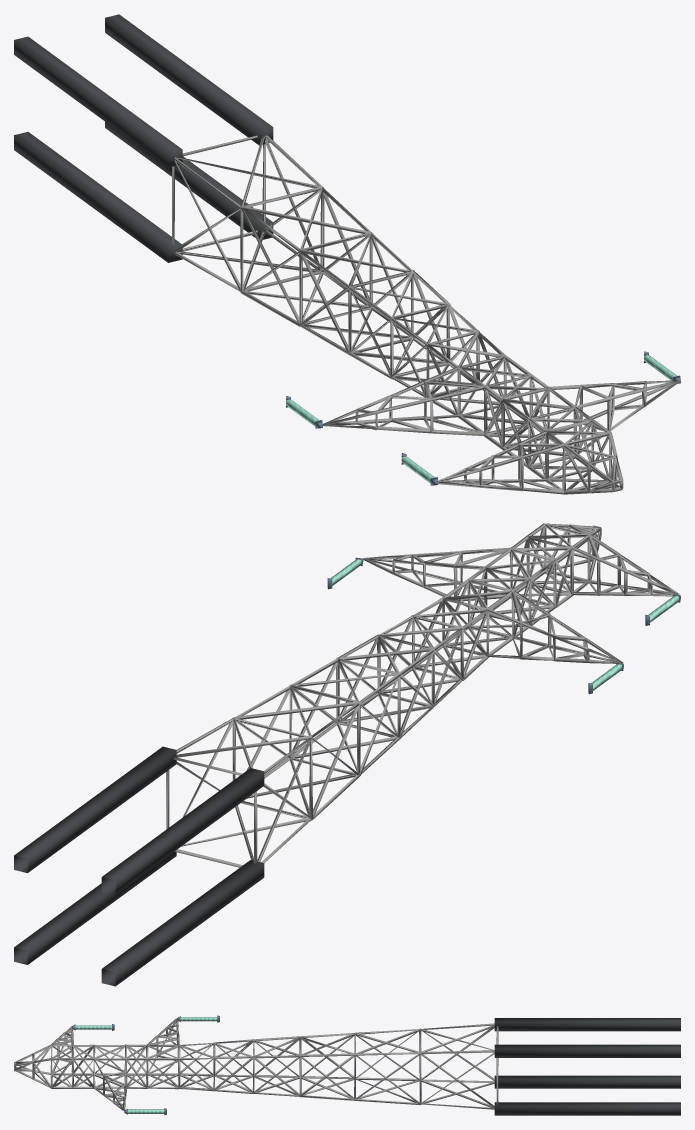
File: pylon_medium.obj
3 views of the same model, one above another, from view 1: azimuth 30°, elevation 25°; view 2: azimuth 150°, elevation 25°; view 3: azimuth 270°, elevation 25° (orthographic). The views are drawn at different scales.
Visible parts, largest first — view 1: Pylon_Medium; view 2: Pylon_Medium; view 3: Pylon_Medium.
Boxes of the visible parts, bbox=[...] form: Pylon_Medium: bbox=[14, 14, 680, 494]; Pylon_Medium: bbox=[14, 523, 680, 986]; Pylon_Medium: bbox=[14, 1015, 680, 1115].
Size of the model in its own units: 12.32 by 4.04 by 36.68.
1 material, 1 textured.
